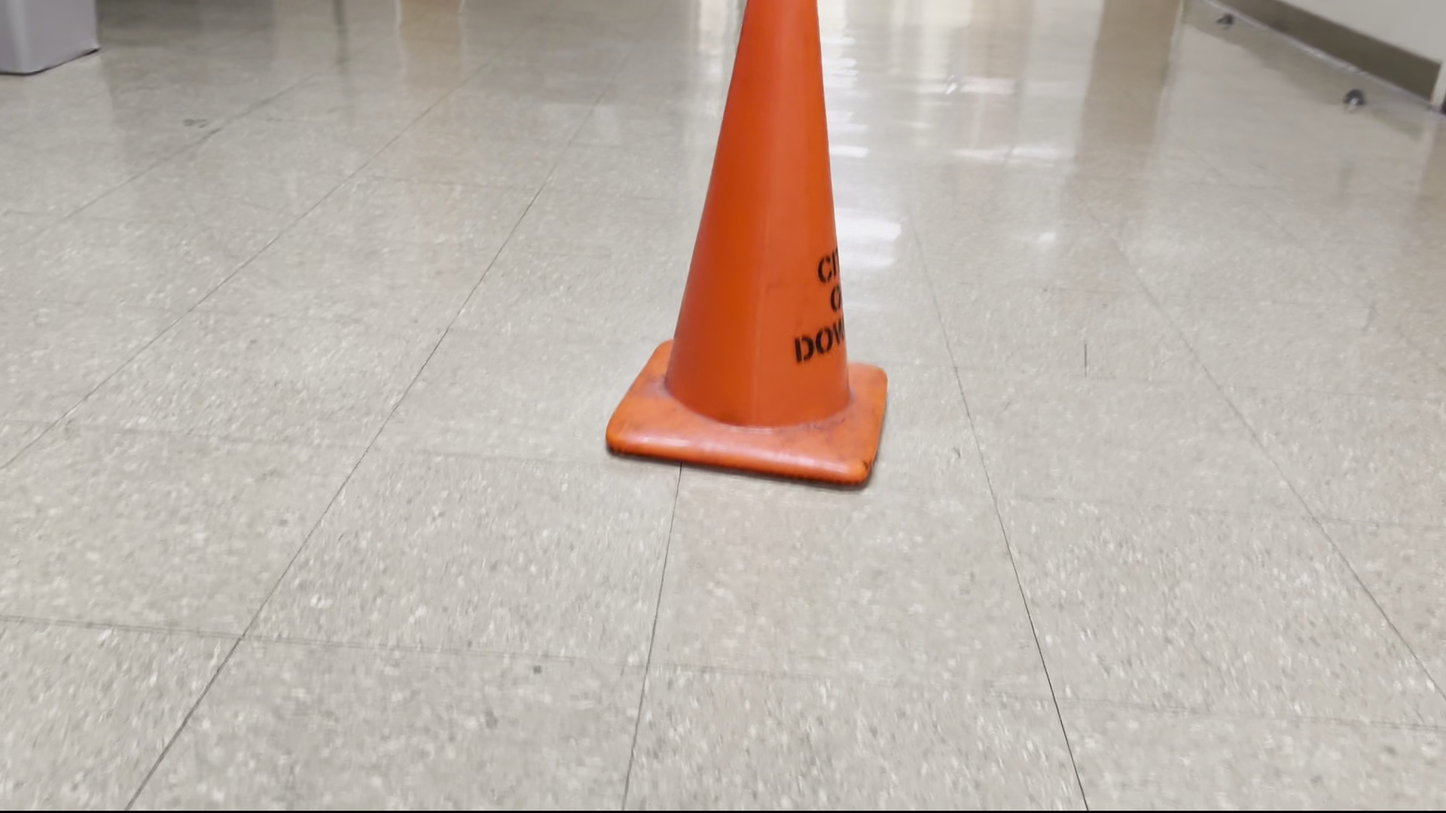traffic_cone: (604, 0, 889, 487)
